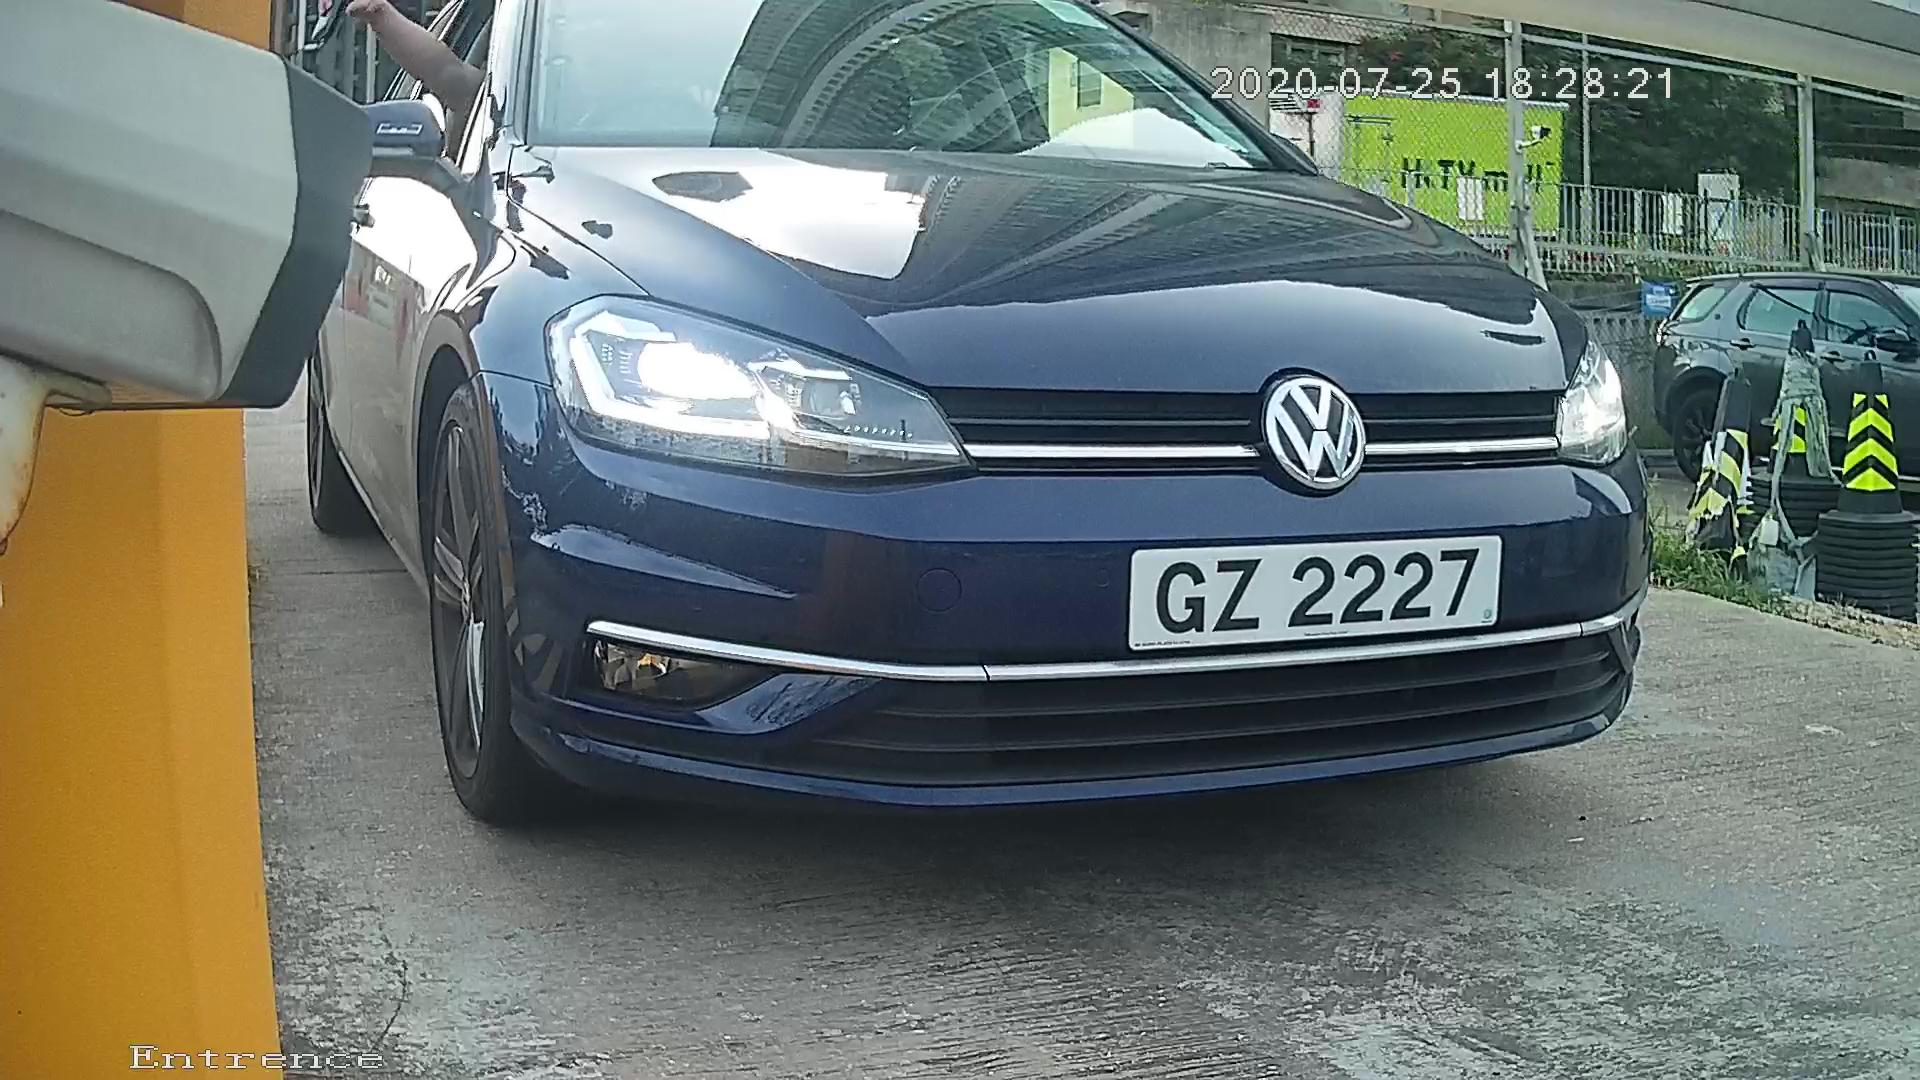Car: (146, 1, 1852, 864)
License Plate: (1098, 526, 1518, 656)
